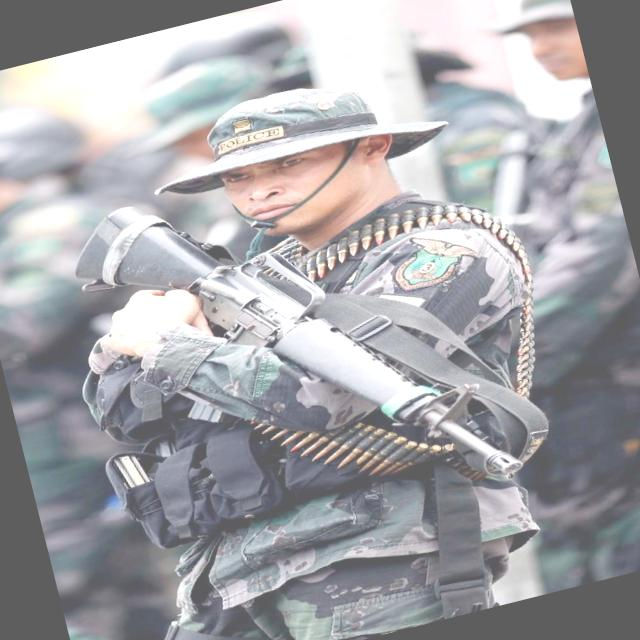m16: (0, 164, 301, 425)
